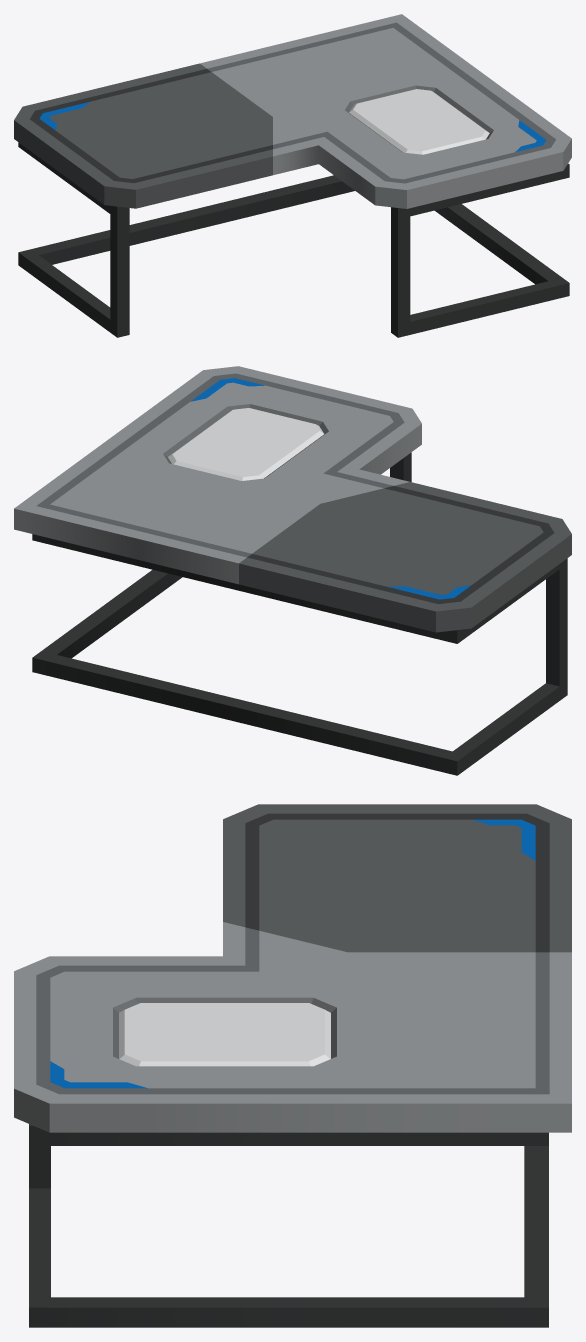
The model's file is Desk_016.fbx.
The picture shows the model from 3 angles, top to bottom: view 1: azimuth 30°, elevation 25°; view 2: azimuth 150°, elevation 25°; view 3: azimuth 270°, elevation 25°; orthographic projection. The views are drawn at different scales.
Visible parts, largest first — view 1: Desk_016; view 2: Desk_016; view 3: Desk_016.
Boxes of the visible parts, x1=… form: Desk_016: x1=14, y1=14, x2=571, y2=337; Desk_016: x1=14, y1=366, x2=571, y2=775; Desk_016: x1=14, y1=804, x2=571, y2=1327.
Bounding box in the file's own units: 235 × 185 × 84.49.
